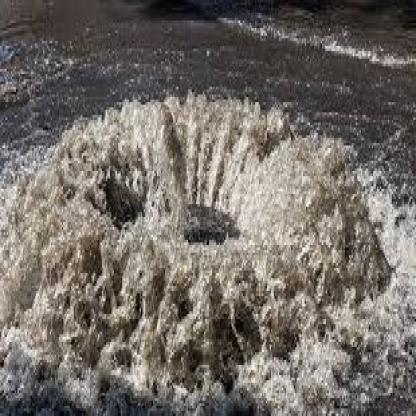drainage overflow-repair-: (0, 81, 393, 372)
